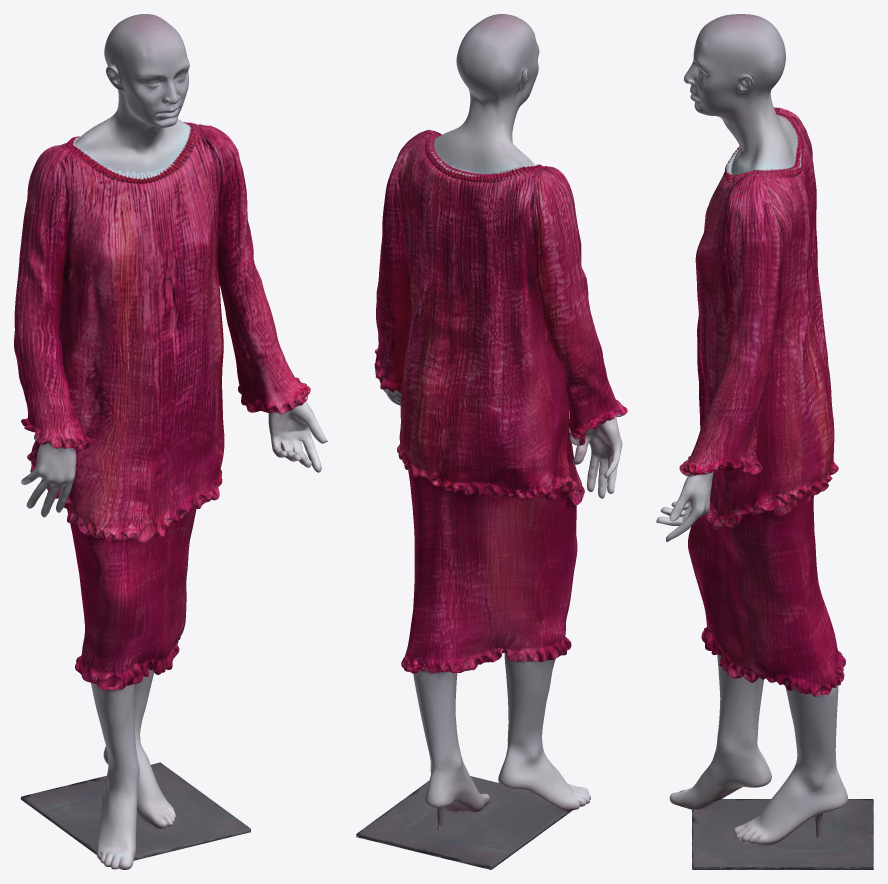
File: 2012.08.026abcde-nojacket.glb
The picture shows the model from 3 angles, left to right: view 1: azimuth 30°, elevation 25°; view 2: azimuth 150°, elevation 25°; view 3: azimuth 270°, elevation 25°; orthographic projection. The views are drawn at different scales.
Visible parts, largest first — view 1: tripo_node_7853c522-39c2-4d07-9462-cf78a41a88f2; view 2: tripo_node_7853c522-39c2-4d07-9462-cf78a41a88f2; view 3: tripo_node_7853c522-39c2-4d07-9462-cf78a41a88f2.
Part boxes in pixels (box(x1,y1,x2,y2)): tripo_node_7853c522-39c2-4d07-9462-cf78a41a88f2: box(14, 14, 327, 869); tripo_node_7853c522-39c2-4d07-9462-cf78a41a88f2: box(356, 14, 627, 869); tripo_node_7853c522-39c2-4d07-9462-cf78a41a88f2: box(656, 14, 873, 869).
Size of the model in its own units: 0.3376 by 0.9797 by 0.2369.
Materials: 1 (1 with a texture image).
